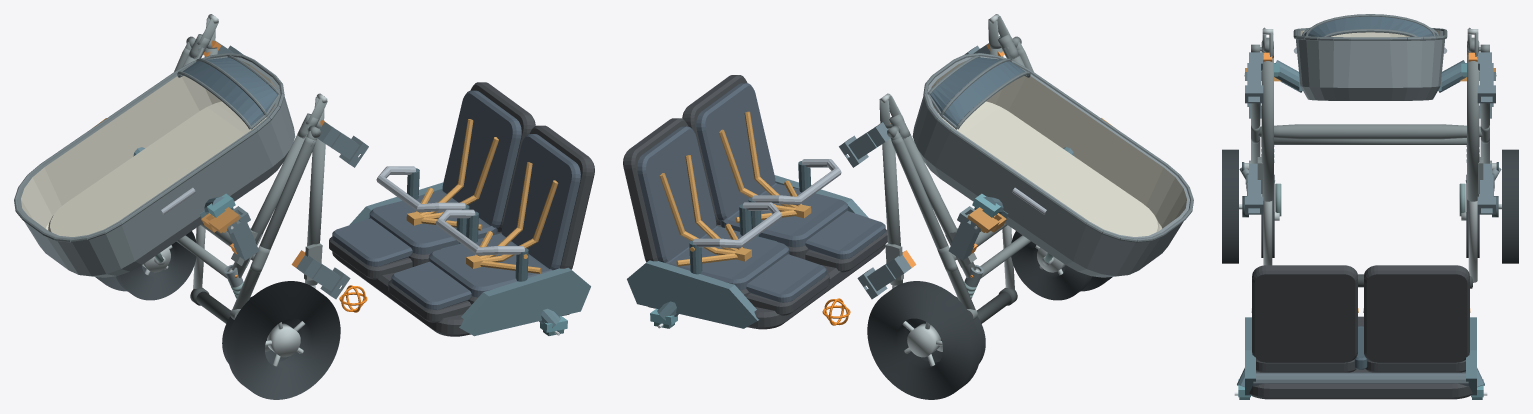
The model's file is D24_w650_state3_wheel_M.glb.
The picture shows the model from 3 angles, left to right: view 1: azimuth 30°, elevation 25°; view 2: azimuth 150°, elevation 25°; view 3: azimuth 270°, elevation 25°; orthographic projection. The views are drawn at different scales.
Visible parts, largest first — view 1: D24_Upper, D24_Lower, RL_tire.011, FR_tire.011, V46_rear_leg_-1.011, main_lower_-1.012, main_upper_-1.012, Universal_Cabin_Receiver_H_-1, Universal_Cabin_Receiver_M_-1, Universal_Cabin_Receiver_L_-1, RL_sealed_hub.011, front_fixed_round_tube.011 (+5 smaller); view 2: D24_Upper, D24_Lower, RR_tire.011, FL_tire.011, V46_rear_leg_1.011, main_lower_1.012, main_upper_1.012, Universal_Cabin_Receiver_H_1, Universal_Cabin_Receiver_M_1, Universal_Cabin_Receiver_L_1, RR_sealed_hub.011, front_fixed_round_tube.011 (+5 smaller); view 3: D24_Upper, D24_Lower, V46_rearbar.011, RL_tire.011, RR_tire.011, main_upper_1.012, main_upper_-1.012, front_fixed_round_tube.011, D24_Lower_Mount_L, Universal_Cabin_Receiver_M_1, Universal_Cabin_Receiver_M_-1, handle_slider_1.013 (+8 smaller).
Part boxes in pixels (left/top/right/bottom): D24_Upper: left=329, top=82, right=594, bottom=336; D24_Lower: left=14, top=53, right=295, bottom=277; RL_tire.011: left=227, top=281, right=340, bottom=399; FR_tire.011: left=116, top=231, right=196, bottom=300; V46_rear_leg_-1.011: left=232, top=136, right=316, bottom=309; main_lower_-1.012: left=231, top=135, right=306, bottom=278; main_upper_-1.012: left=305, top=128, right=325, bottom=285; Universal_Cabin_Receiver_H_-1: left=296, top=255, right=350, bottom=299; Universal_Cabin_Receiver_M_-1: left=317, top=122, right=368, bottom=167; Universal_Cabin_Receiver_L_-1: left=227, top=206, right=259, bottom=260; RL_sealed_hub.011: left=267, top=323, right=300, bottom=357; front_fixed_round_tube.011: left=176, top=235, right=227, bottom=278; D24_Upper: left=623, top=75, right=887, bottom=329; D24_Lower: left=912, top=53, right=1193, bottom=277; RR_tire.011: left=867, top=281, right=980, bottom=399; FL_tire.011: left=1011, top=231, right=1091, bottom=300; V46_rear_leg_1.011: left=891, top=136, right=975, bottom=309; main_lower_1.012: left=899, top=133, right=976, bottom=278; main_upper_1.012: left=882, top=128, right=902, bottom=285; Universal_Cabin_Receiver_H_1: left=857, top=255, right=911, bottom=299; Universal_Cabin_Receiver_M_1: left=839, top=122, right=890, bottom=167; Universal_Cabin_Receiver_L_1: left=948, top=206, right=980, bottom=260; RR_sealed_hub.011: left=907, top=323, right=940, bottom=357; front_fixed_round_tube.011: left=980, top=235, right=1031, bottom=278; D24_Upper: left=1245, top=265, right=1476, bottom=399; D24_Lower: left=1293, top=14, right=1447, bottom=100; V46_rearbar.011: left=1258, top=124, right=1482, bottom=139; RL_tire.011: left=1222, top=149, right=1238, bottom=263; RR_tire.011: left=1502, top=149, right=1518, bottom=263; main_upper_1.012: left=1467, top=57, right=1479, bottom=201; main_upper_-1.012: left=1261, top=57, right=1273, bottom=201; front_fixed_round_tube.011: left=1274, top=138, right=1466, bottom=144; D24_Lower_Mount_L: left=1274, top=60, right=1466, bottom=92; Universal_Cabin_Receiver_M_1: left=1477, top=52, right=1495, bottom=103; Universal_Cabin_Receiver_M_-1: left=1245, top=52, right=1263, bottom=103; handle_slider_1.013: left=1468, top=201, right=1477, bottom=282.
Bounding box in the file's own units: 1.44 × 0.7826 × 0.781.
